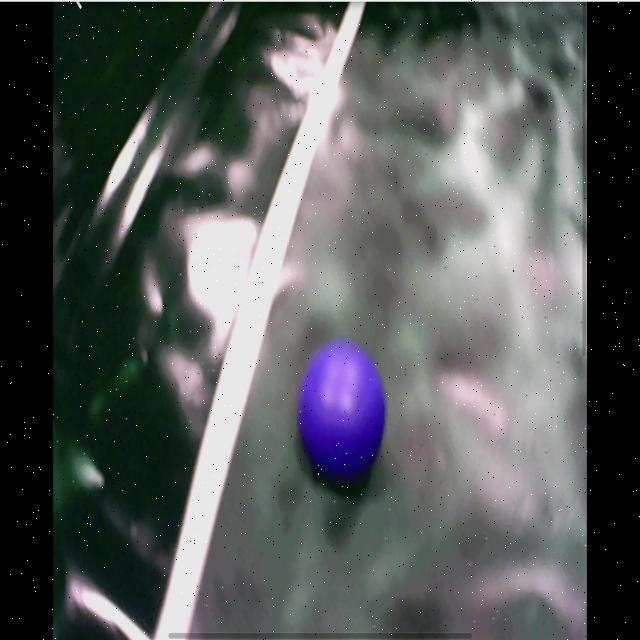ball: (299, 345, 388, 480)
